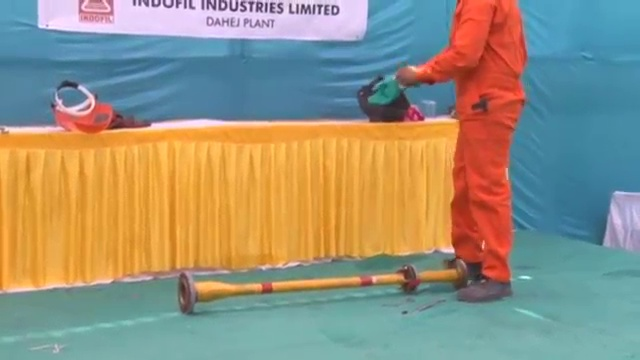person: (395, 1, 532, 307)
